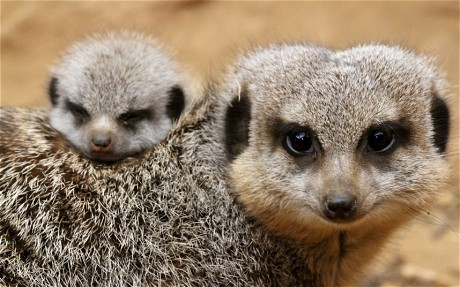meerkat: (190, 26, 460, 281)
